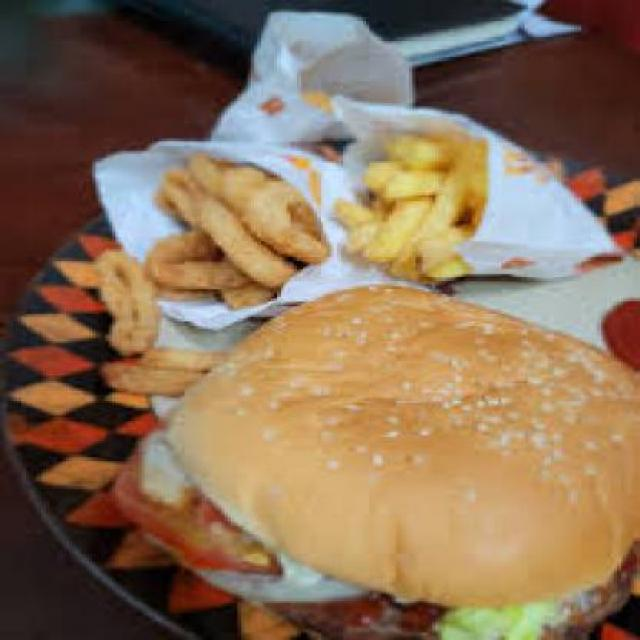french fries: (337, 116, 521, 282)
hamburger: (129, 280, 636, 638)
onion rings: (92, 142, 330, 330)
